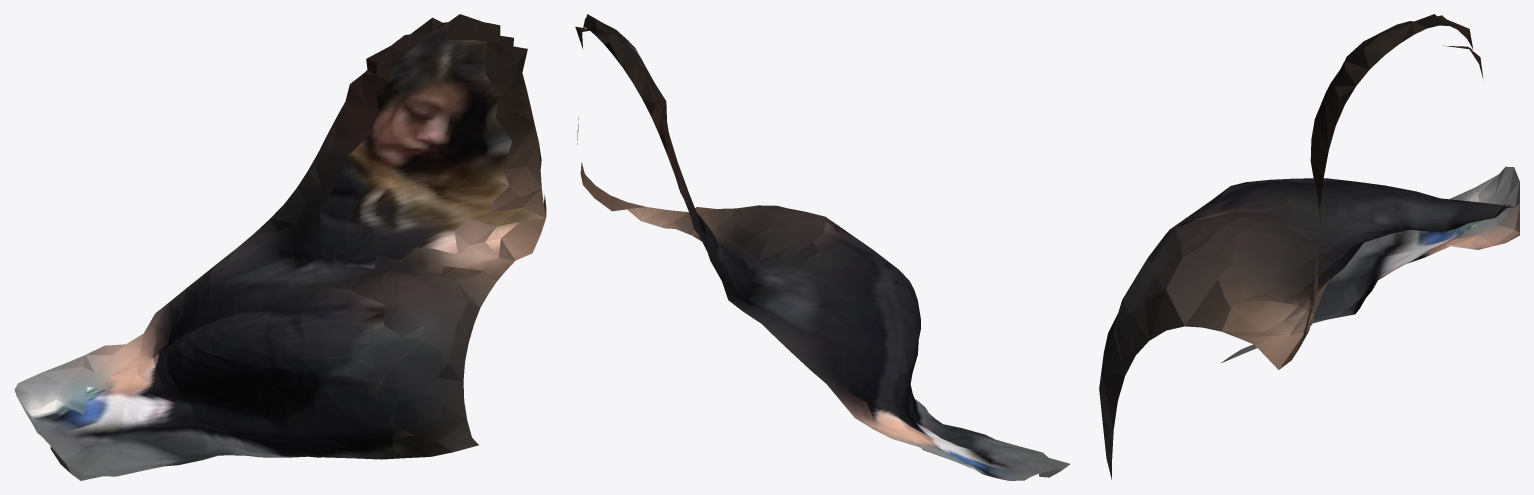
3 views of the same model, side by side, from view 1: azimuth 30°, elevation 25°; view 2: azimuth 150°, elevation 25°; view 3: azimuth 270°, elevation 25° (orthographic). The views are drawn at different scales.
Size of the model in its own units: 0.9153 by 0.6397 by 0.472.
1 material, 1 textured.
